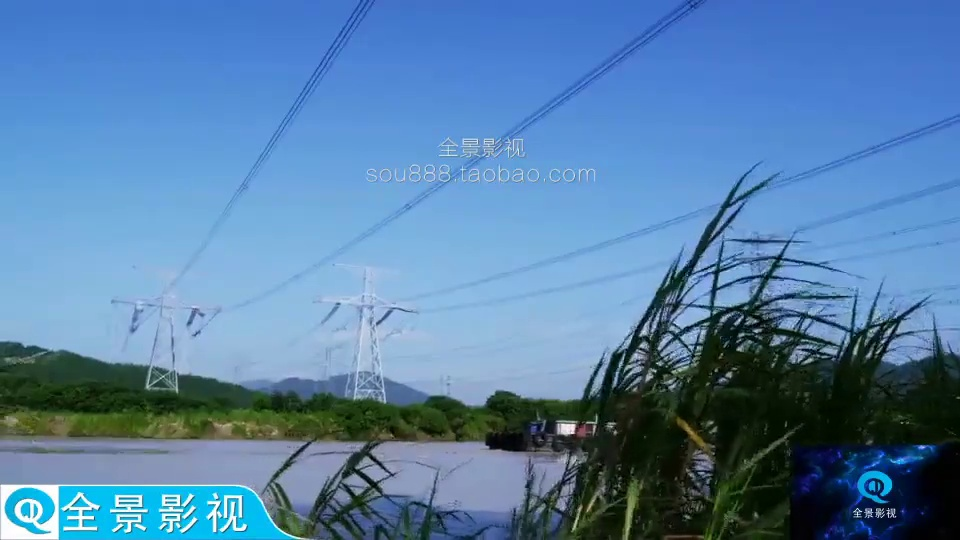tower_body: (317, 256, 419, 410), (117, 256, 215, 400)
tower_foot: (343, 360, 394, 405), (144, 354, 184, 395)
